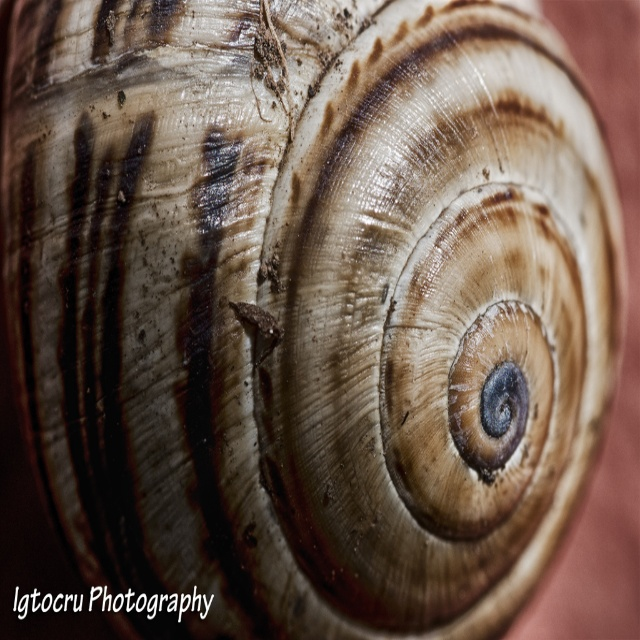Snail: (0, 0, 629, 639)
